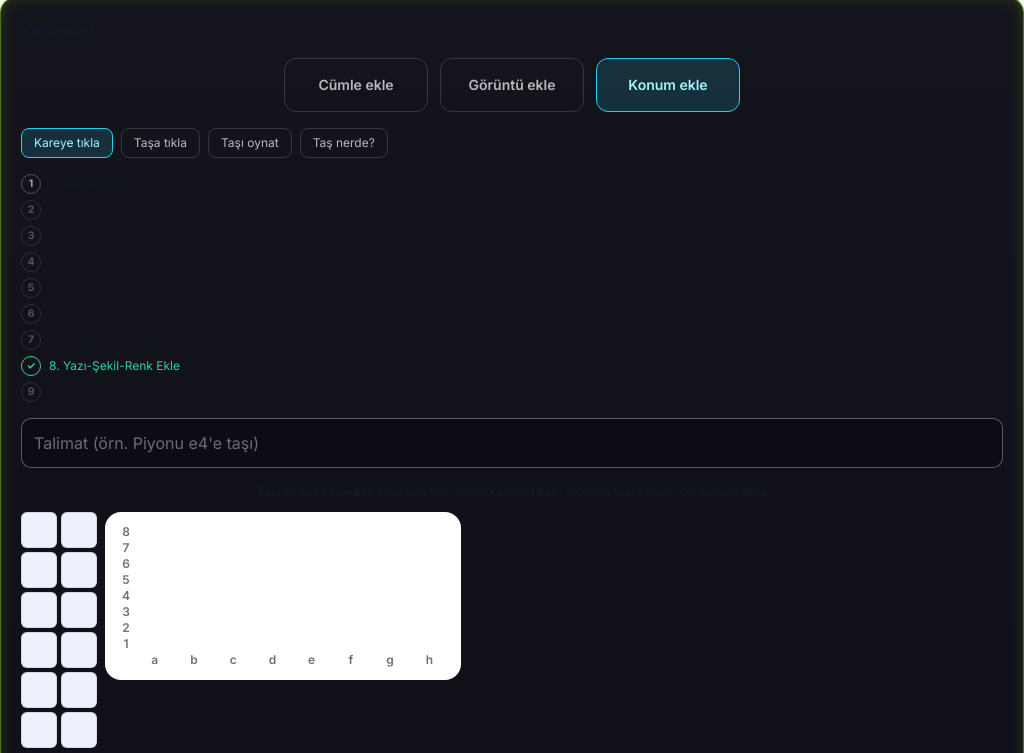
Test case: ExerciseForm — bölüm bağımsızlığı › Görüntü taslağı ile Cümle taslağı AYRIDIR
Click the button "Cümle ekle". click: click(356, 85)
box: [284,58,428,112]
(page scrolled)
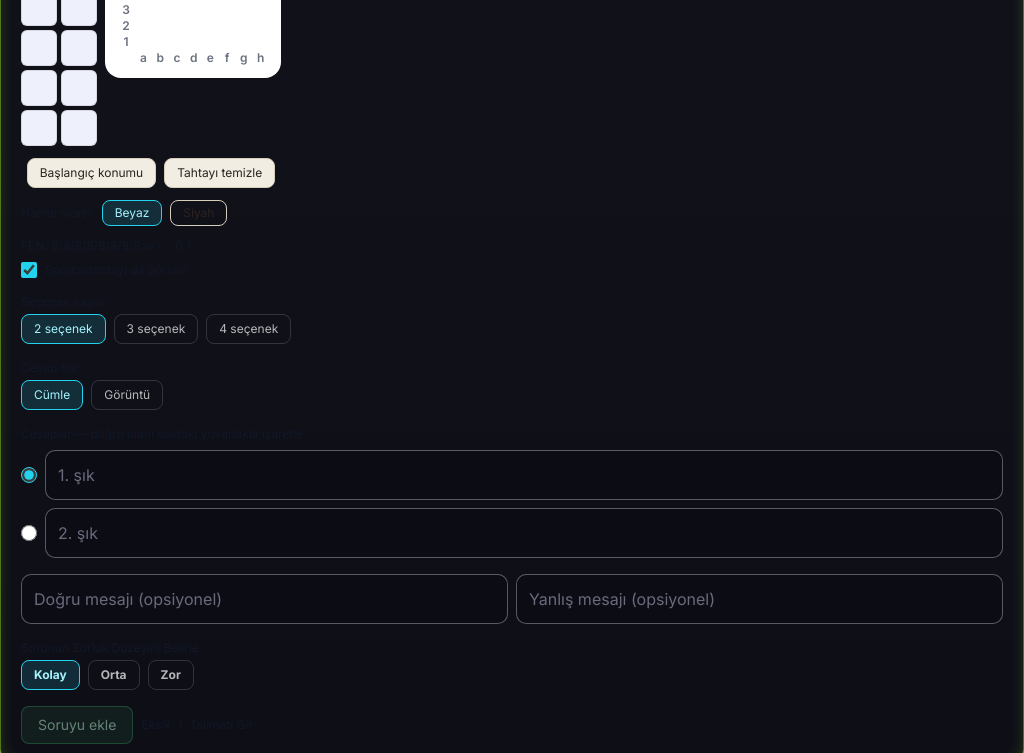
Type "cümle-şıkkı" into the field with placeholder "1. şık". click: (524, 475)
box: [45,450,1003,500]
(page scrolled)
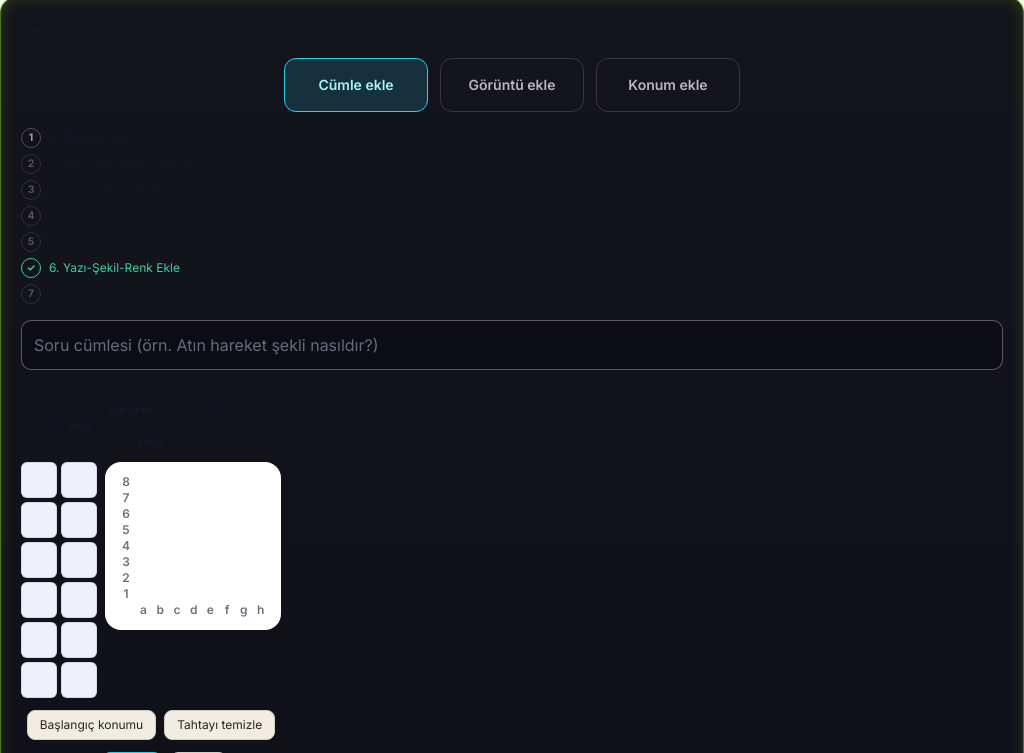
Click the button "Görüntü ekle". click: click(512, 85)
box: [440,58,584,112]
(page scrolled)
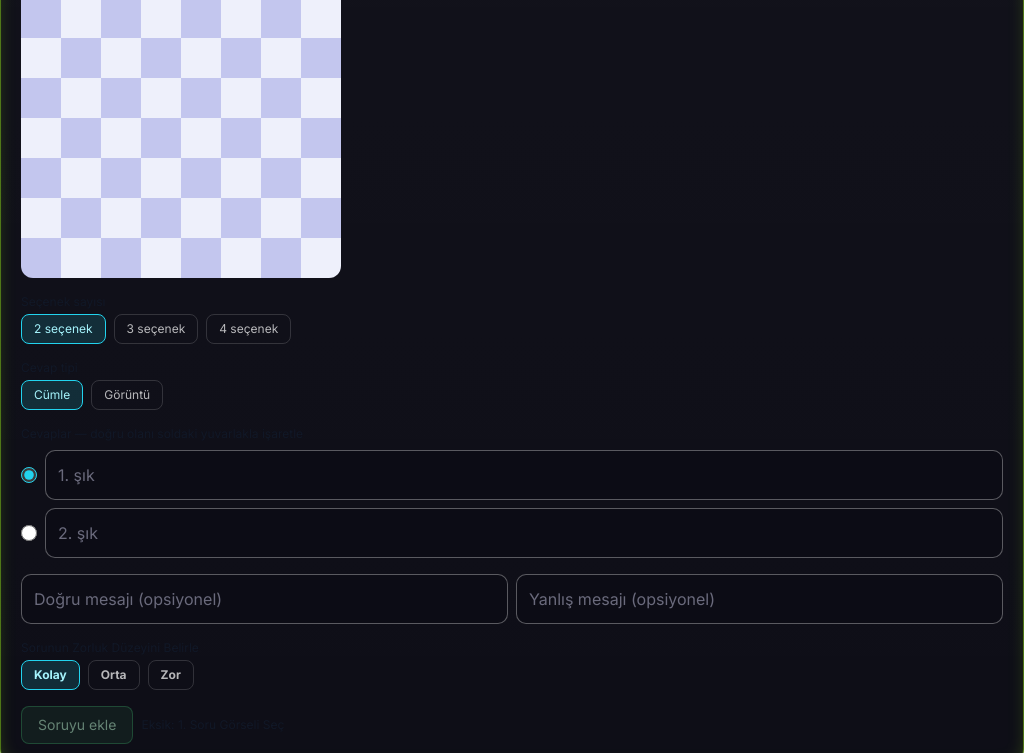
Type "görüntü-şıkkı" into the field with placeholder "1. şık". click: (524, 475)
box: [45,450,1003,500]
(page scrolled)
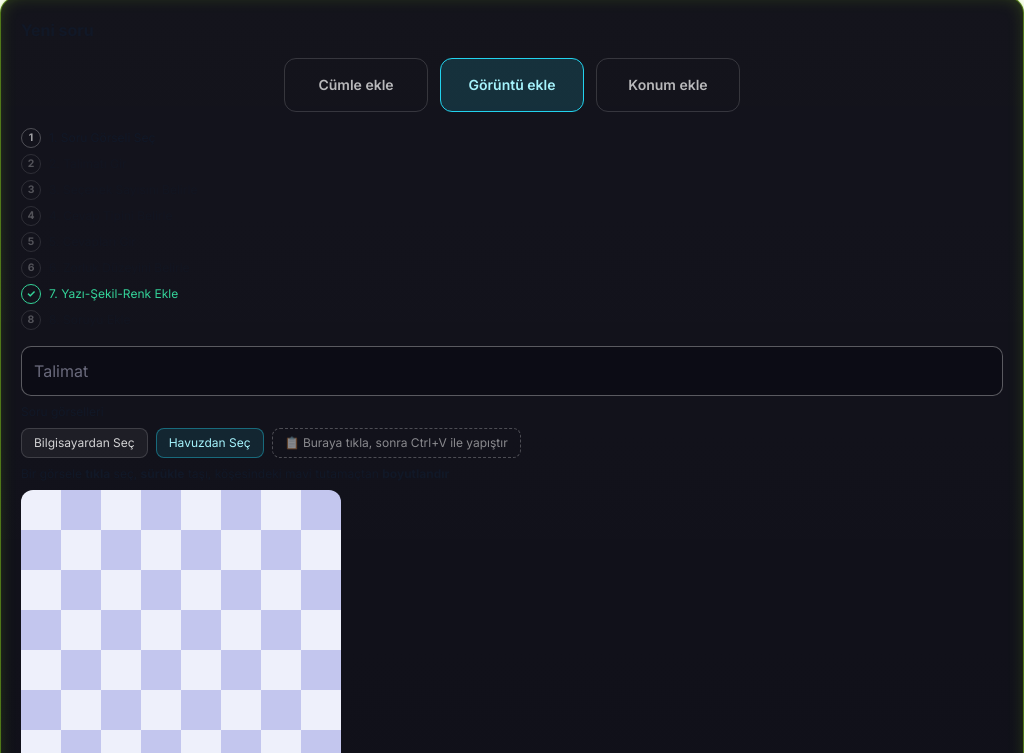
Click the button "Cümle ekle". click: click(356, 85)
box: [284,58,428,112]
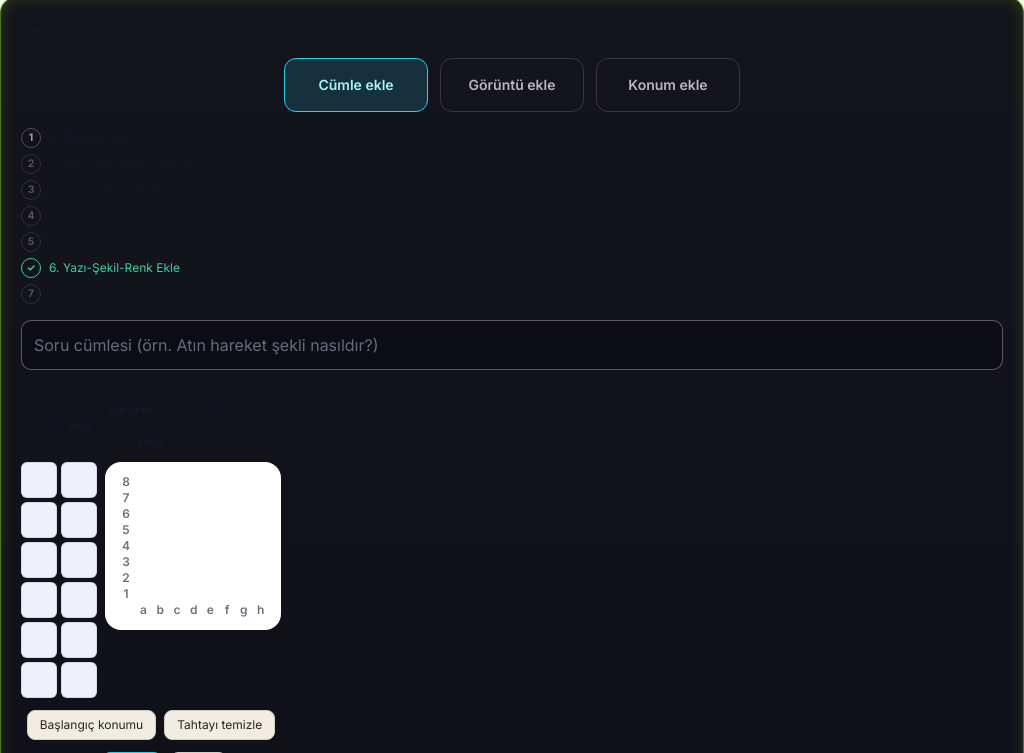
Click the button "Görüntü ekle". click: click(512, 85)
box: [440,58,584,112]
(page scrolled)
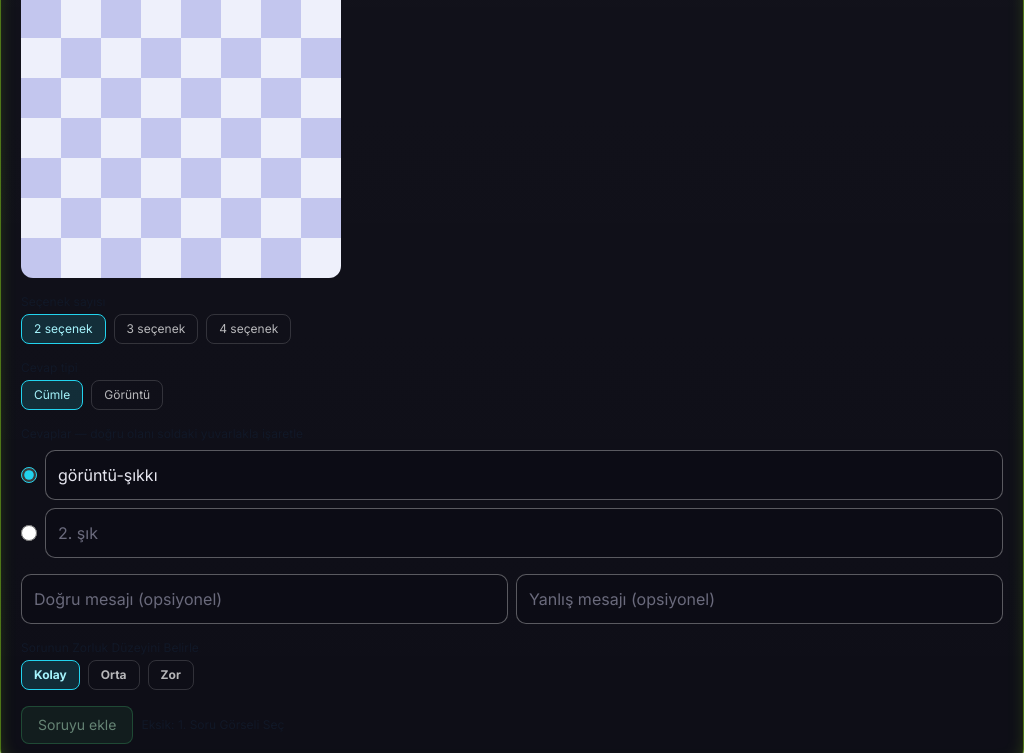
Check: the field with placeholder "1. şık" holds "görüntü-şıkkı", box [45,450,1003,500]
